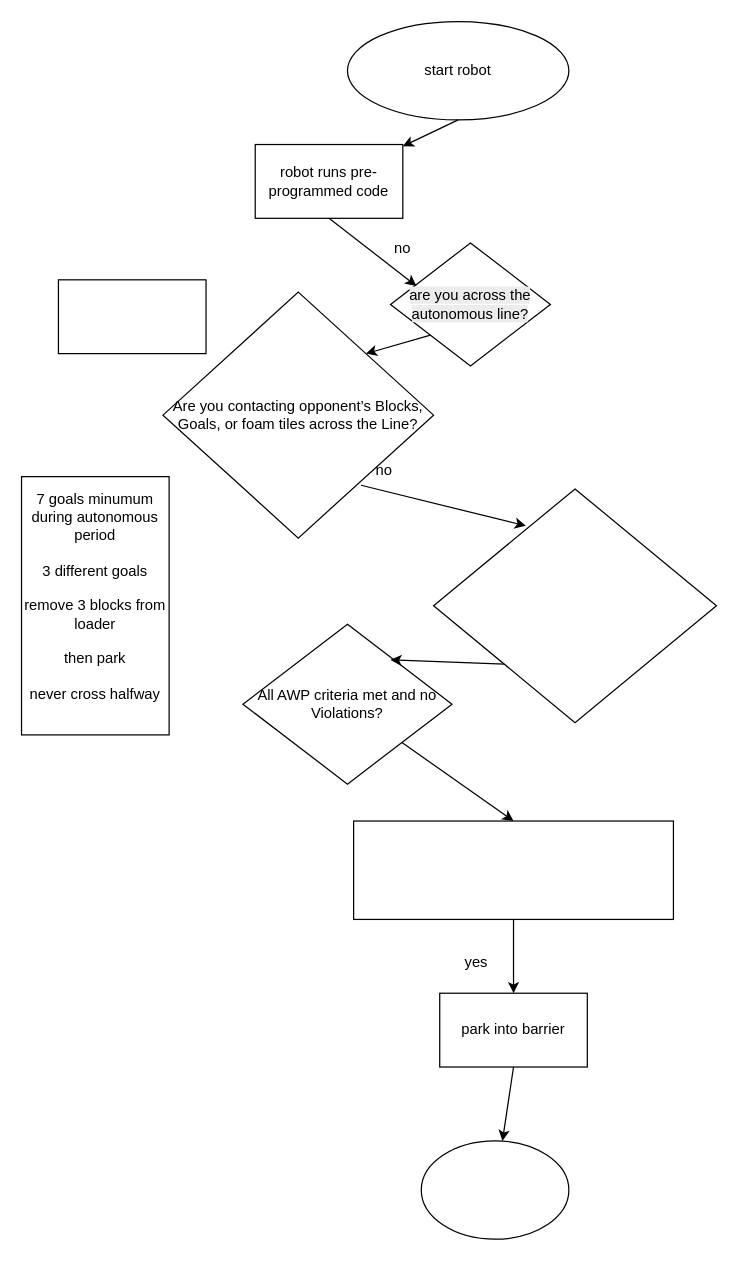
Image size: 738x1261. Some labels were removed from this diagram. The centre of each missing label's shape, as x and y in pixels:
"Are you engaging with shared Blocks on the Autonomous Line?" belongs at [574,605].
"end autonomy" belongs at [494,1189].
"move blocks into scoring window" belongs at [131,316].
"run code to find 7 place 2 in short and center, and 3 in the long goals" belongs at [512,869].
